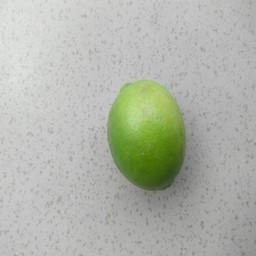Good_lime: (103, 74, 191, 192)
